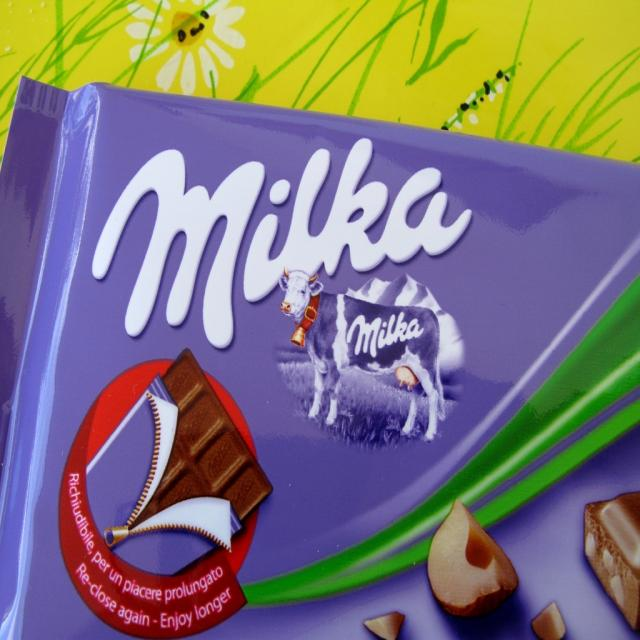milka: (73, 138, 478, 457)
